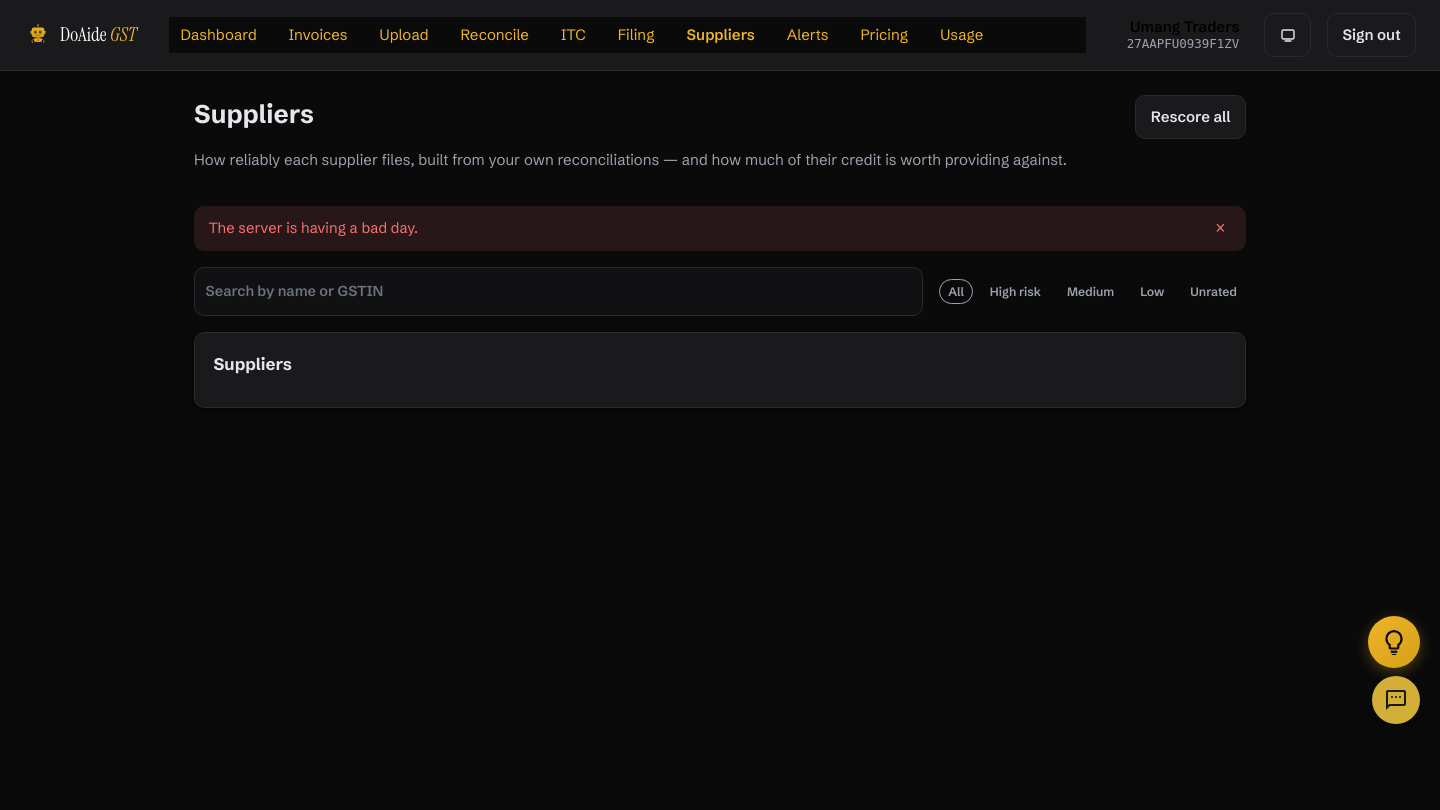
Test: dismissing the error a page reports › /suppliers lets the user close it
Click the button named "Dismiss" at (1220, 229), box [1209,217,1232,240]
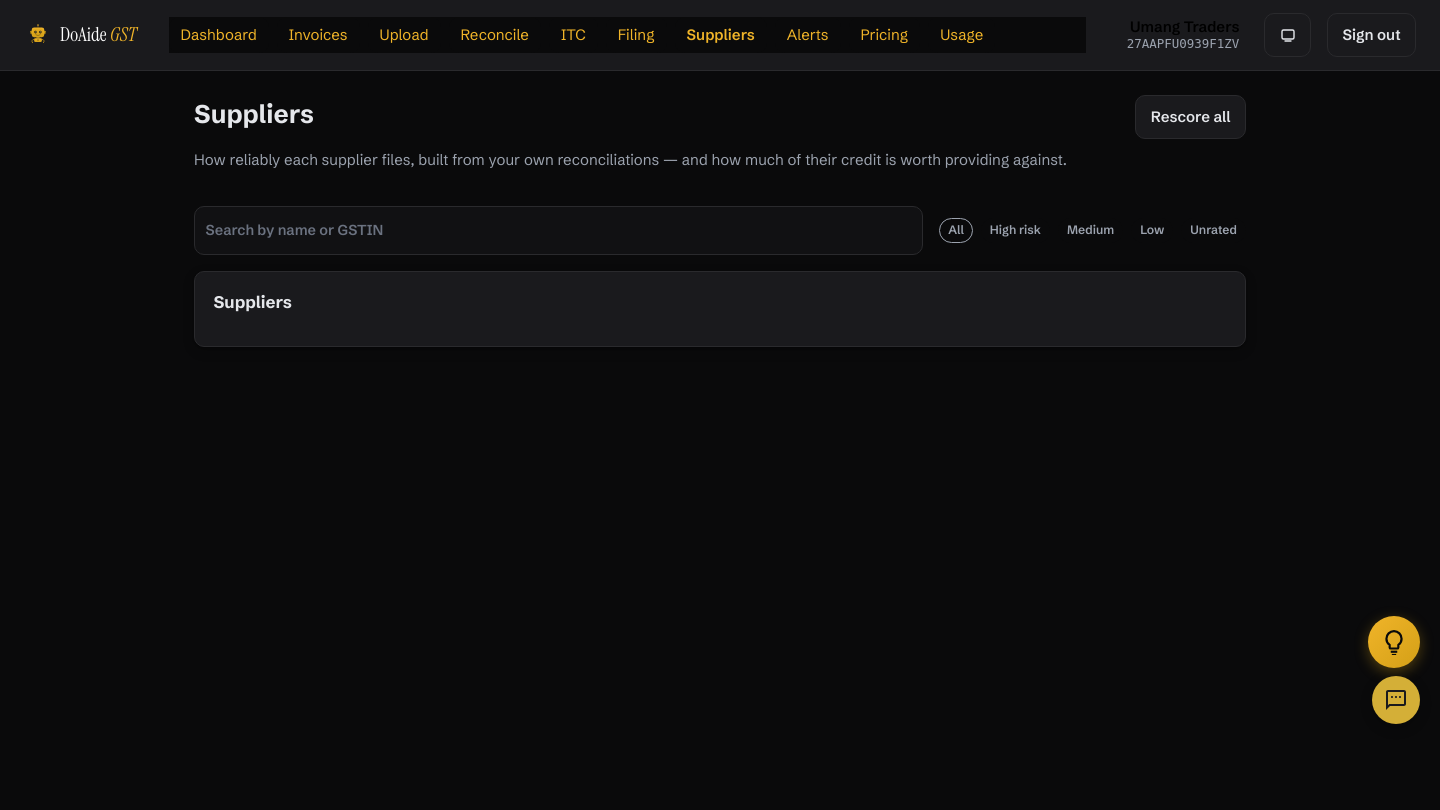
Check: the link "Suppliers" is shown, box [674,17,767,53]
Check: the message "The server is having a bad day. ×" is gone
